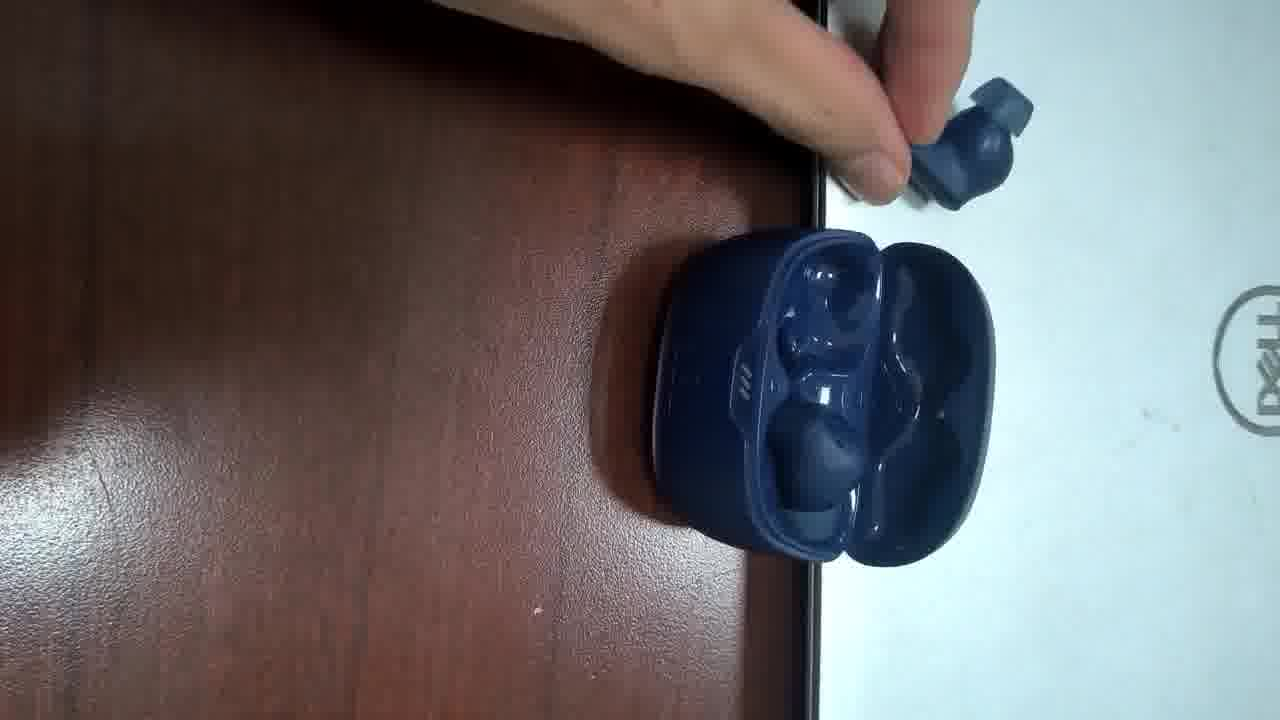Case: (648, 238, 1004, 558)
Earbud: (911, 77, 1032, 210), (768, 400, 864, 511)
Empty_Slot: (776, 242, 885, 373)
